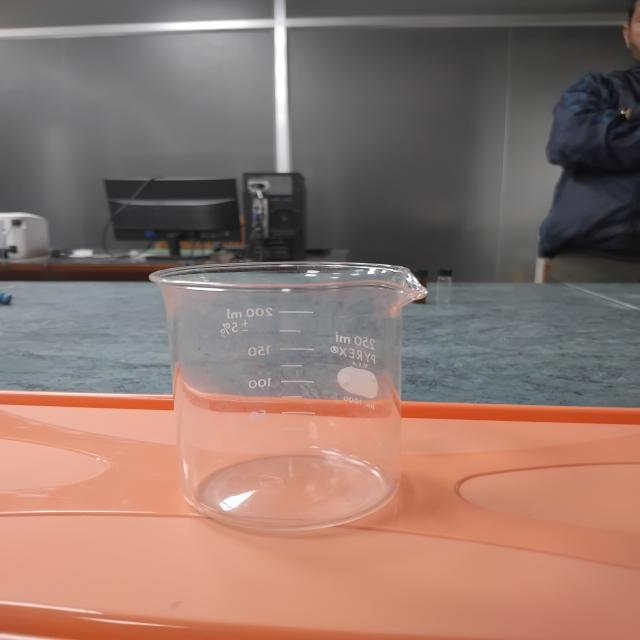Beaker: (134, 222, 440, 542)
